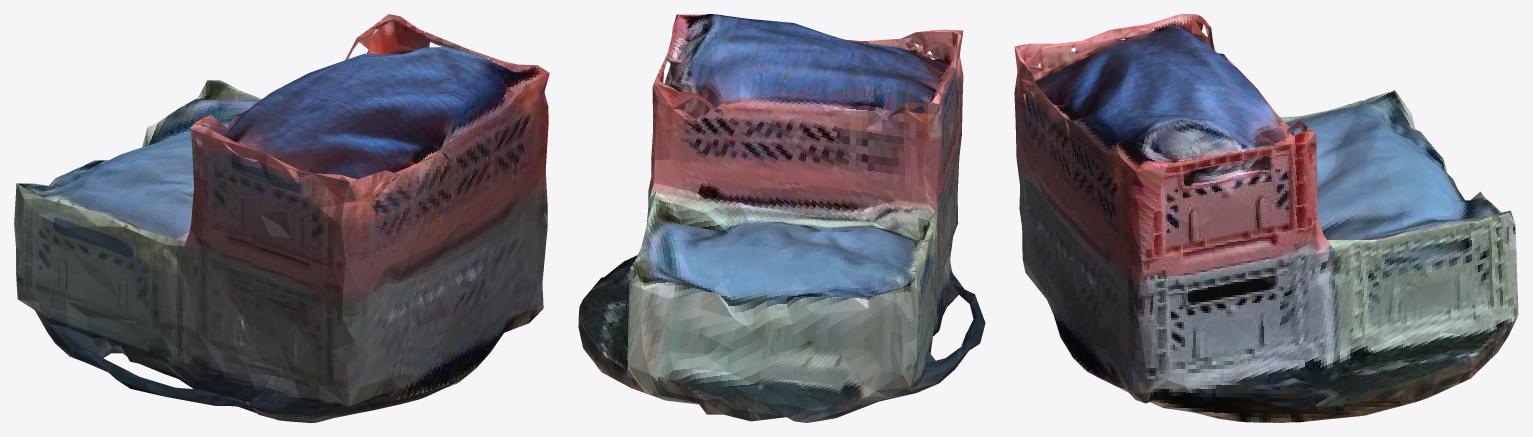
The model's file is dumb-min.glb.
3 views of the same model, side by side, from view 1: azimuth 30°, elevation 25°; view 2: azimuth 150°, elevation 25°; view 3: azimuth 270°, elevation 25° (orthographic). The views are drawn at different scales.
Visible parts, largest first — view 1: Mesh_0; view 2: Mesh_0; view 3: Mesh_0.
Part boxes in pixels (<box>): Mesh_0: <box>14,14,549,422</box>; Mesh_0: <box>578,14,985,422</box>; Mesh_0: <box>1014,14,1518,422</box>.
Size of the model in its own units: 0.3614 by 0.2429 by 0.4001.
1 material, 1 textured.
